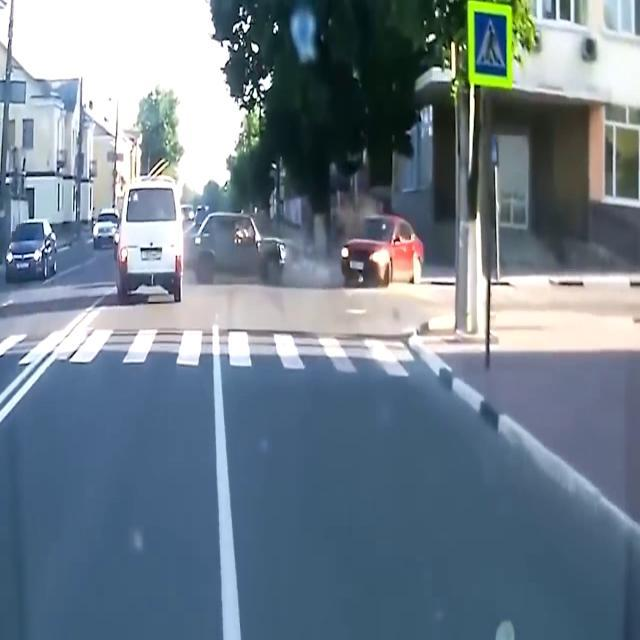normal: (336, 223, 453, 319), (116, 167, 189, 303), (10, 196, 63, 301), (96, 209, 121, 246)
single accident: (191, 193, 336, 301)
